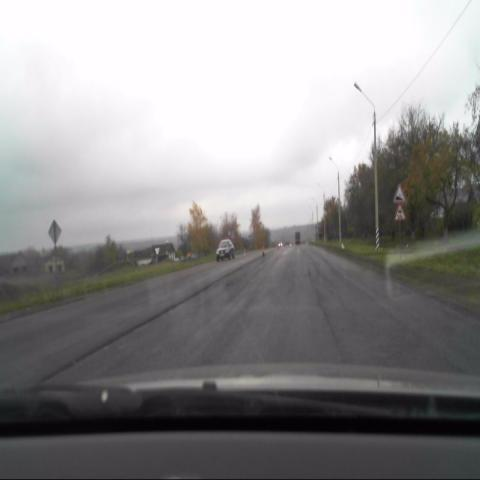1_13: (392, 183, 406, 204)
